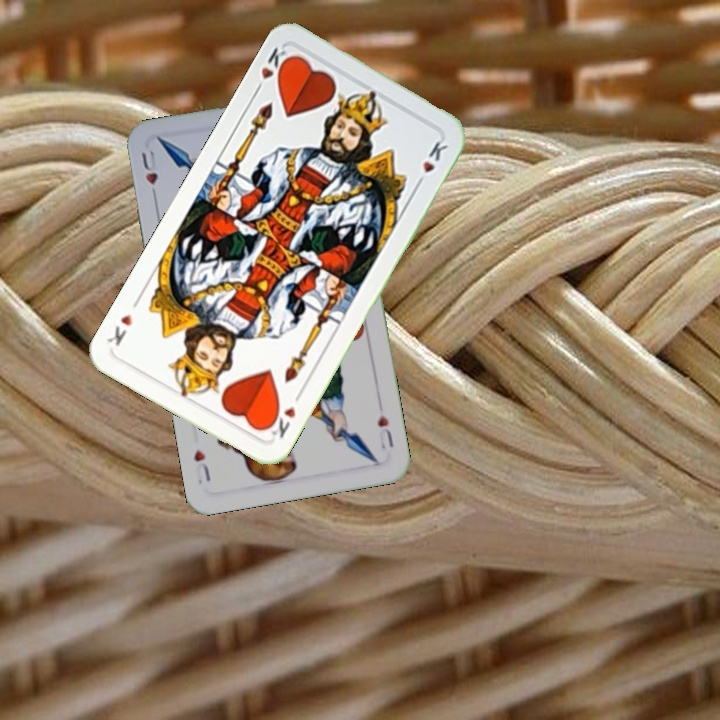HK: (250, 43, 294, 97), (262, 388, 305, 441)
HU: (137, 144, 161, 203), (373, 410, 396, 452)
